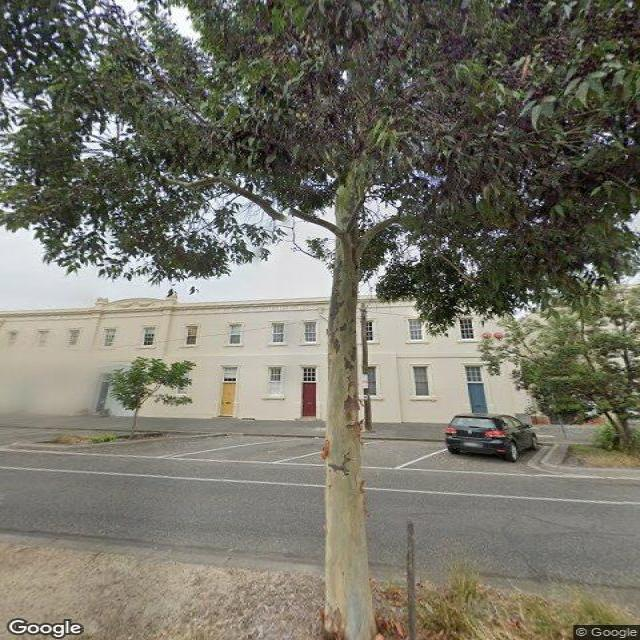timber-pole: (356, 307, 374, 435)
